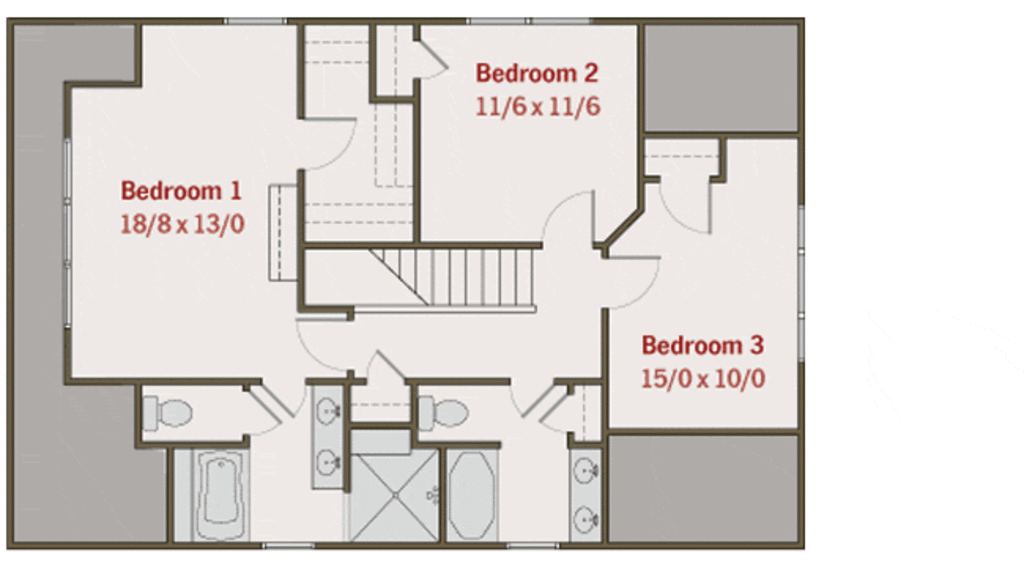door: (658, 176, 713, 235), (294, 318, 345, 374), (544, 192, 596, 242), (306, 118, 355, 167), (609, 258, 659, 305), (414, 36, 451, 84), (508, 383, 556, 414), (264, 384, 310, 416), (250, 390, 278, 439), (541, 393, 571, 434), (363, 352, 406, 378)
large_sink: (415, 392, 475, 440), (138, 392, 196, 438)
stairs: (351, 244, 532, 312)
tub: (198, 447, 246, 541), (450, 447, 494, 543)
twin_sink: (313, 388, 342, 491), (574, 447, 599, 544)
window: (66, 137, 74, 326), (465, 17, 597, 21), (222, 18, 287, 25), (259, 543, 315, 546), (801, 204, 802, 361), (502, 545, 560, 546)
